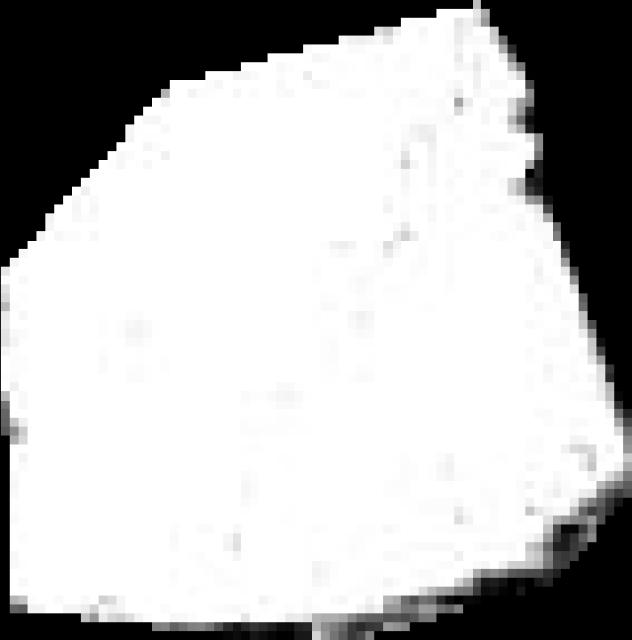tumor_good_chance: (1, 0, 632, 640)
